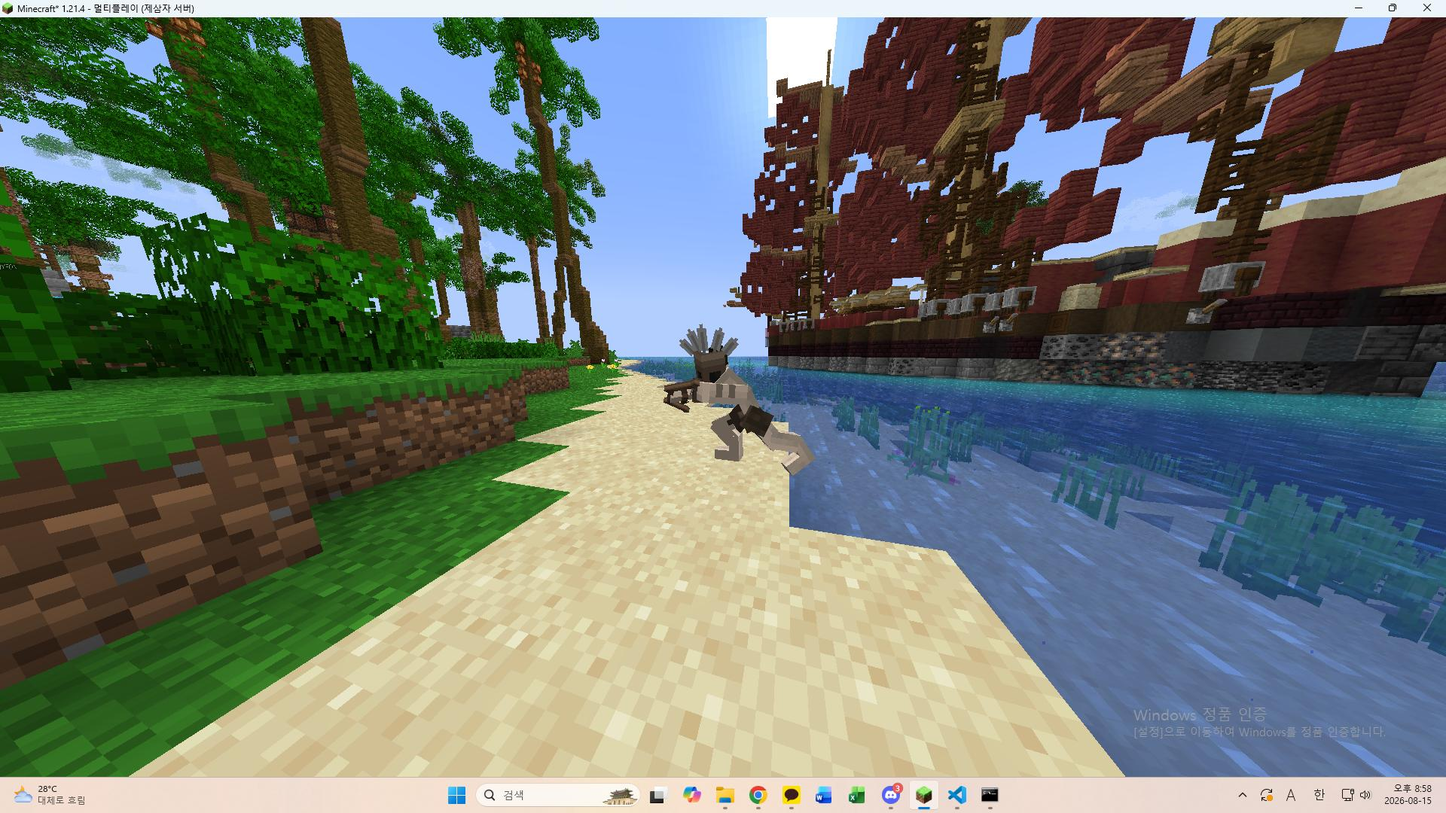bow_indian: (644, 322, 839, 507)
